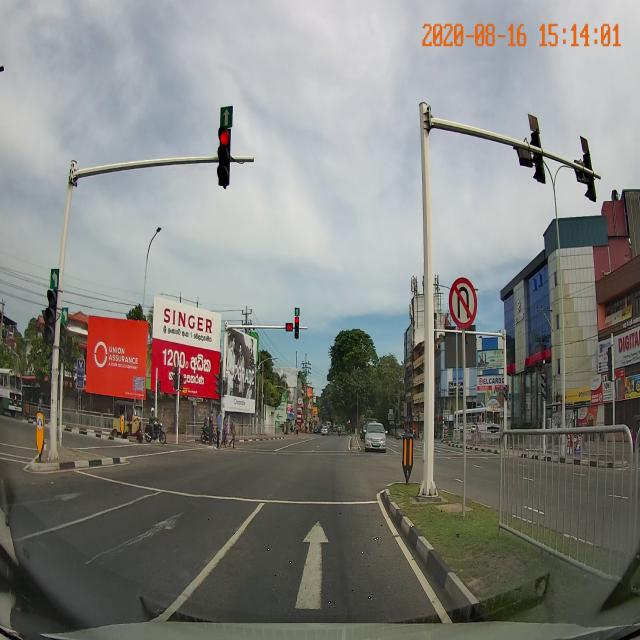forward: (167, 502, 443, 616)
